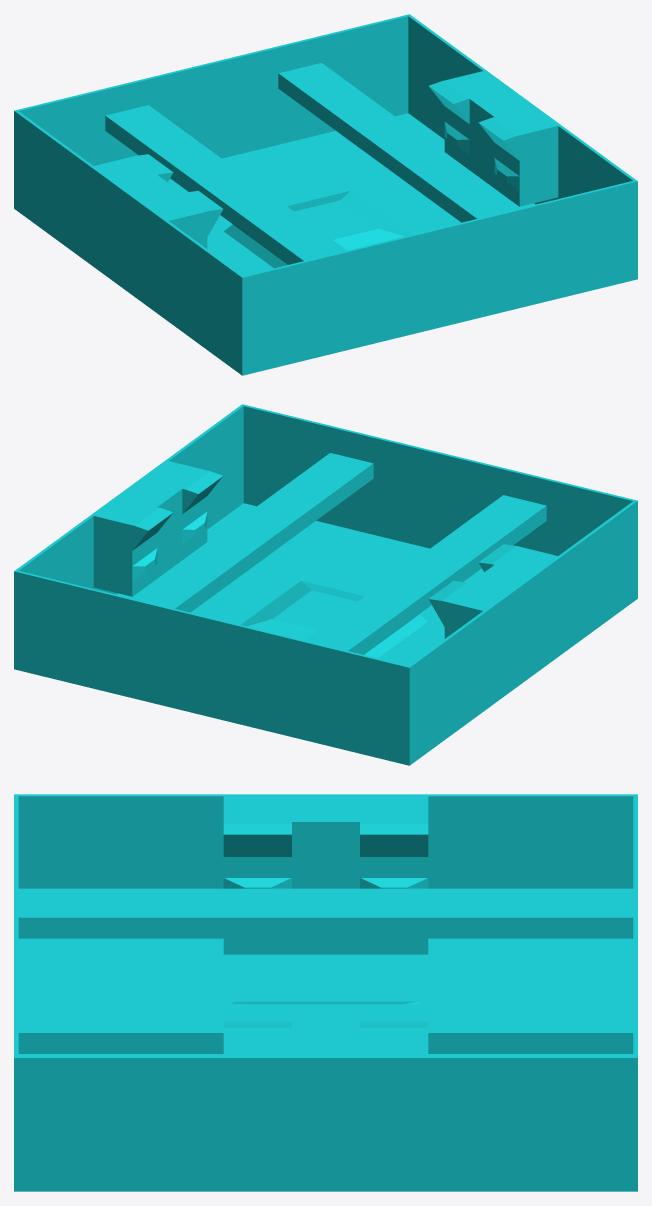
The model's file is BaseMap2.fbx.
3 views of the same model, one above another, from view 1: azimuth 30°, elevation 25°; view 2: azimuth 150°, elevation 25°; view 3: azimuth 270°, elevation 25° (orthographic). The views are drawn at different scales.
Parts seen in each view (by area): view 1: Cube.809, Cube.812, Cube.811, Cube.565, Cube.807, Cube.813, Cube.808, Cube.815, Cube.810, Cube.816; view 2: Cube.812, Cube.809, Cube.811, Cube.565, Cube.807, Cube.813, Cube.808, Cube.815, Cube.810, Cube.816; view 3: Cube.815, Cube.811, Cube.565, Cube.808, Cube.807, Cube.810, Cube.813, Cube.809, Cube.812, Cube.816.
Part boxes in pixels (left/top/right/bottom): Cube.809: left=242, top=181, right=637, bottom=375; Cube.812: left=15, top=14, right=409, bottom=165; Cube.811: left=14, top=110, right=243, bottom=375; Cube.565: left=168, top=113, right=535, bottom=275; Cube.807: left=278, top=63, right=519, bottom=222; Cube.813: left=429, top=71, right=558, bottom=206; Cube.808: left=105, top=105, right=346, bottom=264; Cube.815: left=408, top=14, right=637, bottom=204; Cube.810: left=94, top=154, right=223, bottom=248; Cube.816: left=224, top=190, right=410, bottom=268; Cube.812: left=14, top=571, right=409, bottom=765; Cube.809: left=242, top=404, right=636, bottom=555; Cube.811: left=408, top=500, right=637, bottom=765; Cube.565: left=116, top=503, right=483, bottom=665; Cube.807: left=132, top=453, right=373, bottom=612; Cube.813: left=93, top=461, right=222, bottom=596; Cube.808: left=305, top=495, right=546, bottom=654; Cube.815: left=14, top=404, right=243, bottom=594; Cube.810: left=428, top=544, right=557, bottom=638; Cube.816: left=241, top=580, right=427, bottom=658; Cube.815: left=14, top=1056, right=637, bottom=1191; Cube.811: left=15, top=794, right=636, bottom=888; Cube.565: left=18, top=938, right=633, bottom=1055; Cube.808: left=18, top=888, right=633, bottom=938; Cube.807: left=18, top=1004, right=633, bottom=1053; Cube.810: left=223, top=796, right=428, bottom=954; Cube.813: left=223, top=1021, right=428, bottom=1055; Cube.809: left=14, top=794, right=18, bottom=1057; Cube.812: left=633, top=794, right=637, bottom=1057; Cube.816: left=232, top=1001, right=419, bottom=1004.
Size of the model in its own units: 12809 by 3031 by 12809.
